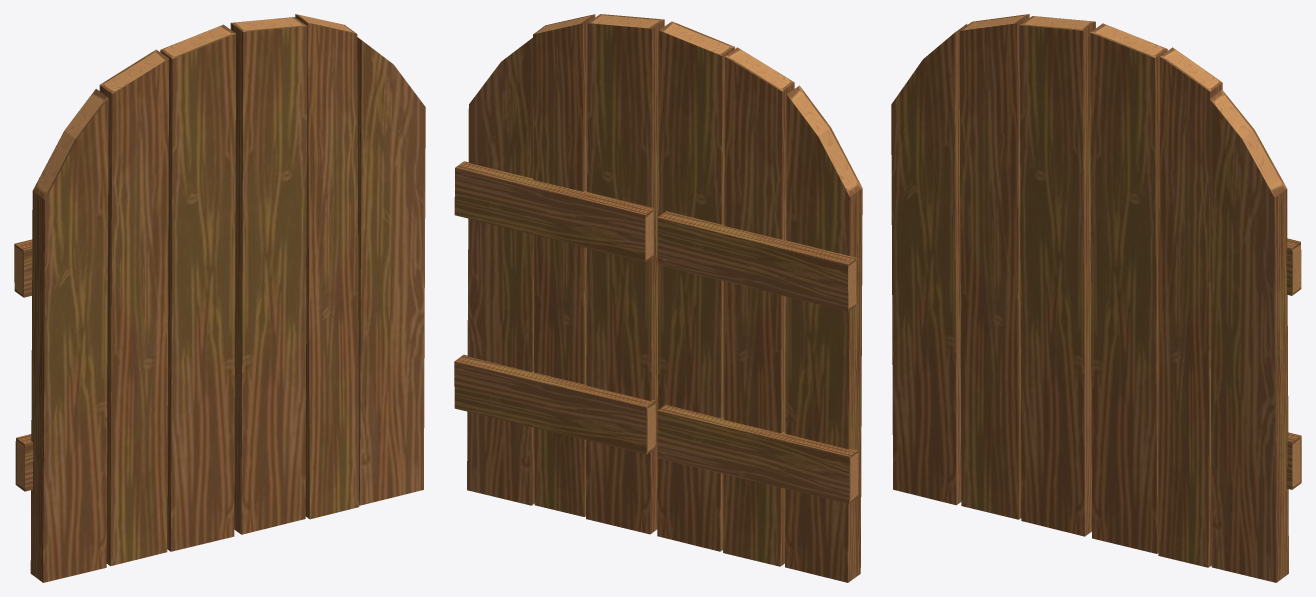
The model's file is window-qm-windowshutterswideroundclosed.glb.
3 renders of one model, left to right at view 1: azimuth 30°, elevation 25°; view 2: azimuth 150°, elevation 25°; view 3: azimuth 330°, elevation 25°, orthographic.
Parts seen in each view (by area): view 1: Cube_176; view 2: Cube_176; view 3: Cube_176.
Part boxes in pixels (left/top/right/bottom): Cube_176: left=14, top=14, right=425, bottom=582; Cube_176: left=454, top=14, right=862, bottom=582; Cube_176: left=891, top=14, right=1301, bottom=582.
Size of the model in its own units: 1.35 by 1.65 by 0.1358.
Materials: 1 (1 with a texture image).
